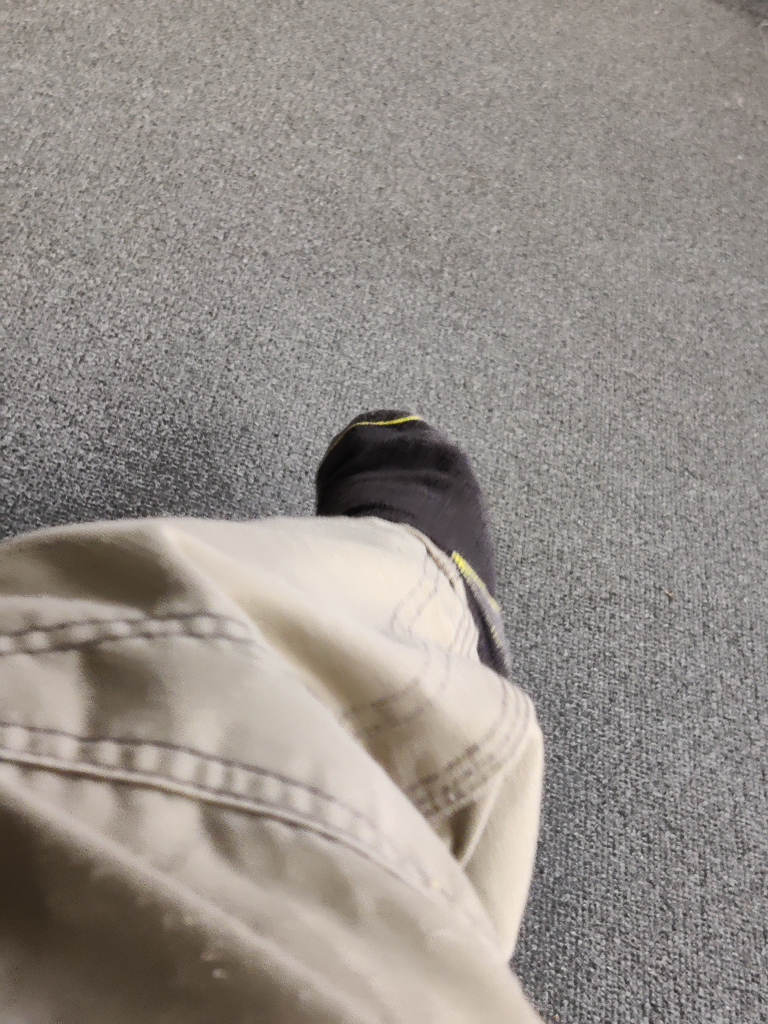Humanoid: (0, 403, 588, 1024)
